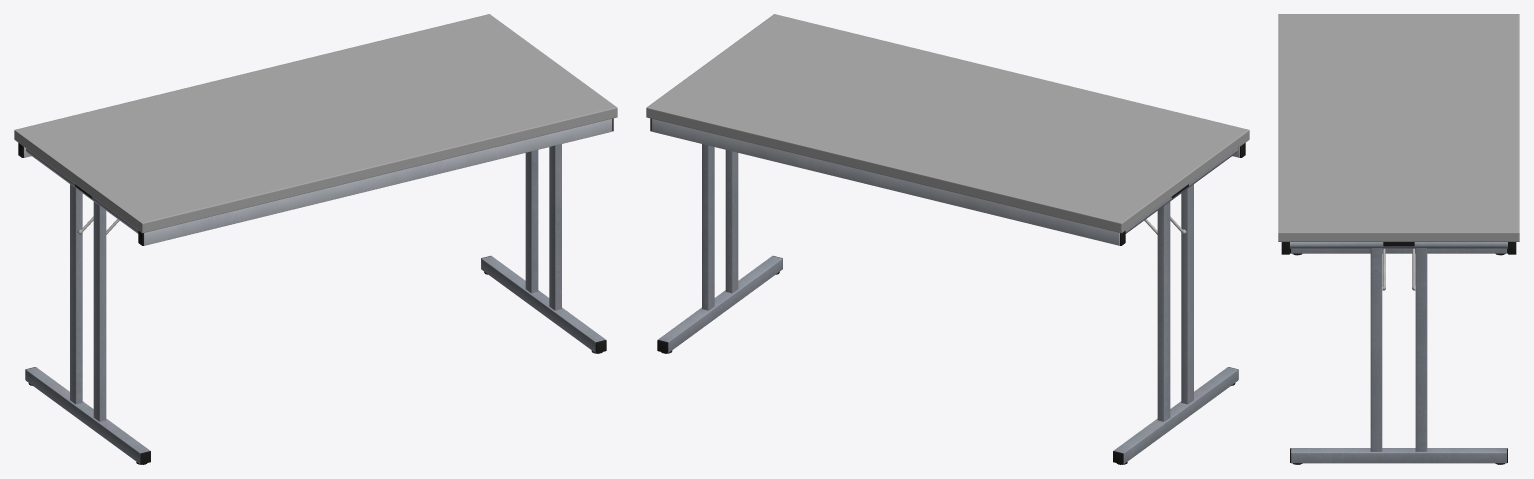
Rendered from table.glb.
3 views of the same model, side by side, from view 1: azimuth 30°, elevation 25°; view 2: azimuth 150°, elevation 25°; view 3: azimuth 270°, elevation 25° (orthographic). The views are drawn at different scales.
Visible parts, largest first — view 1: Folding_Table_7kcg; view 2: Folding_Table_7kcg; view 3: Folding_Table_7kcg.
Part boxes in pixels (box(x1,y1,x2,y2)): Folding_Table_7kcg: box(14, 14, 617, 464); Folding_Table_7kcg: box(646, 14, 1249, 464); Folding_Table_7kcg: box(1278, 14, 1519, 464).
Size of the model in its own units: 1.5 by 0.7501 by 0.7.
Materials: 1 (1 with a texture image).
